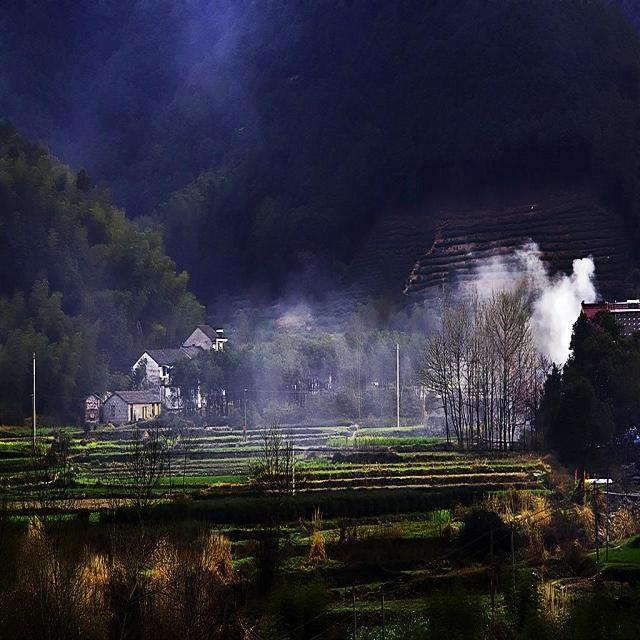Smoke: (248, 239, 595, 450)
